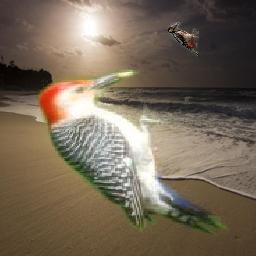Woodpecker: (38, 64, 234, 241), (167, 23, 199, 58)
